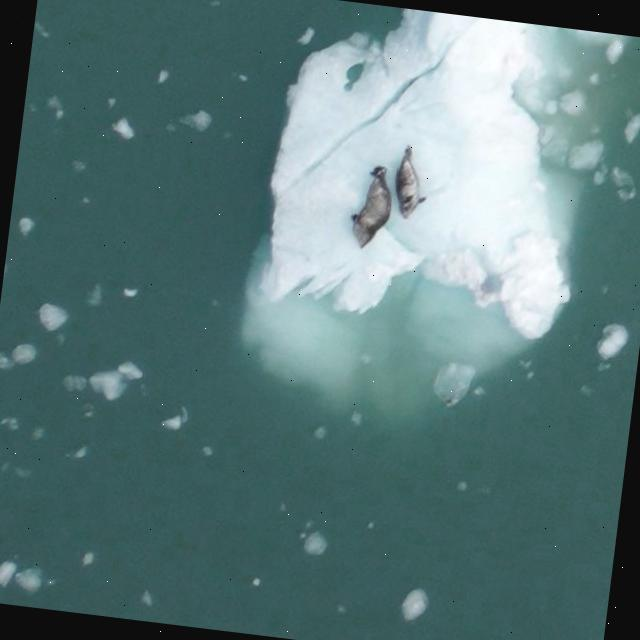seal: (344, 163, 401, 255), (382, 145, 431, 221)
